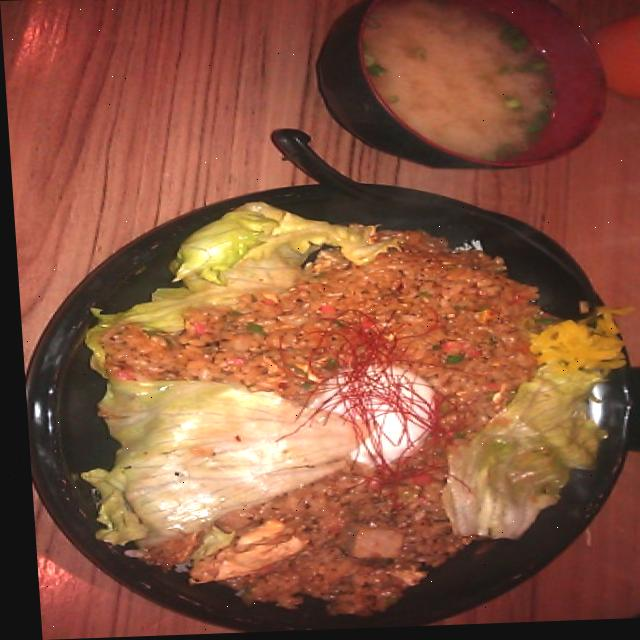汤锅炖物: (340, 0, 606, 168)
米饭主食: (29, 150, 640, 639)
